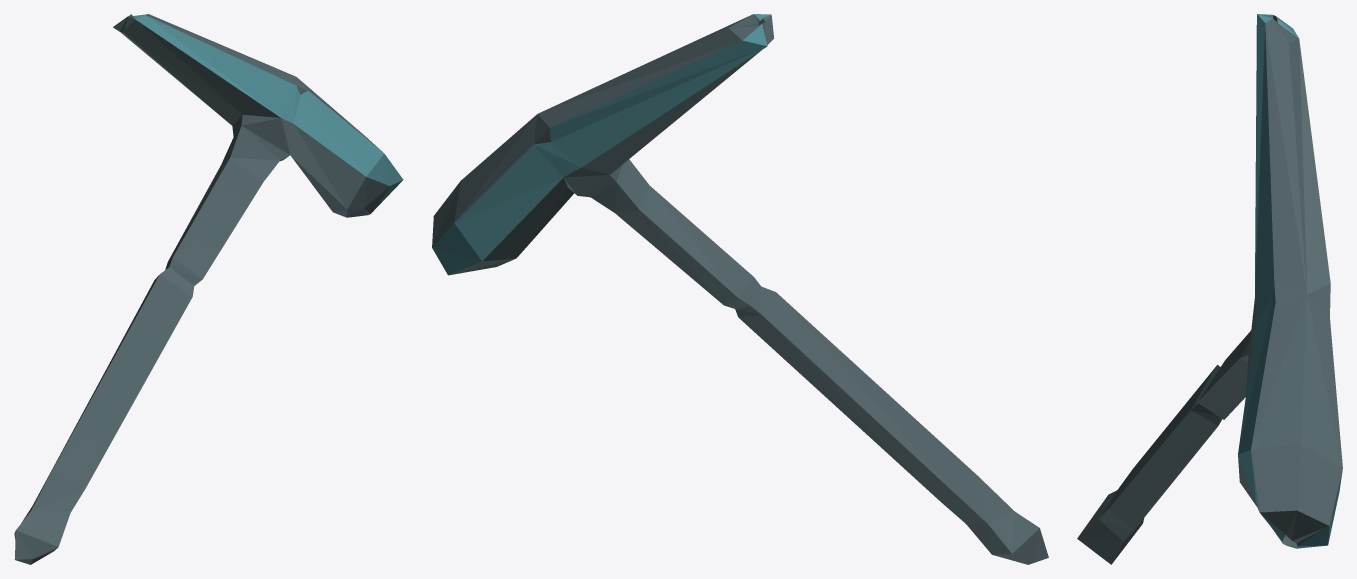
The model's file is CharSkyNPC_Prop_PickAxe.glb.
3 renders of one model, left to right at view 1: azimuth 30°, elevation 25°; view 2: azimuth 150°, elevation 25°; view 3: azimuth 270°, elevation 25°, orthographic. The views are drawn at different scales.
Visible parts, largest first — view 1: CharSkyNPC_Prop_PickAxe; view 2: CharSkyNPC_Prop_PickAxe; view 3: CharSkyNPC_Prop_PickAxe.
Boxes of the visible parts, <box> form: CharSkyNPC_Prop_PickAxe: <box>14,14,403,564</box>; CharSkyNPC_Prop_PickAxe: <box>432,14,1048,564</box>; CharSkyNPC_Prop_PickAxe: <box>1077,14,1342,564</box>.
Bounding box in the file's own units: 7.13 × 7.1 × 2.64.
Materials: 1 (1 with a texture image).
